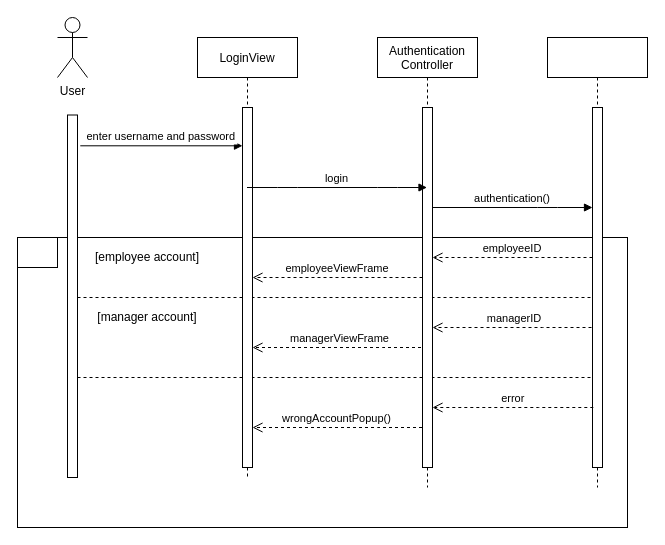
Image size: 665x545. Some labels were removed from this diagram. The shapes that lost their labels are listed below. From the top down, each one's box as (x1, y1, x2, y2) in pixels, then its label:
(16, 236, 58, 268): Alt
(546, 36, 648, 488): Database
